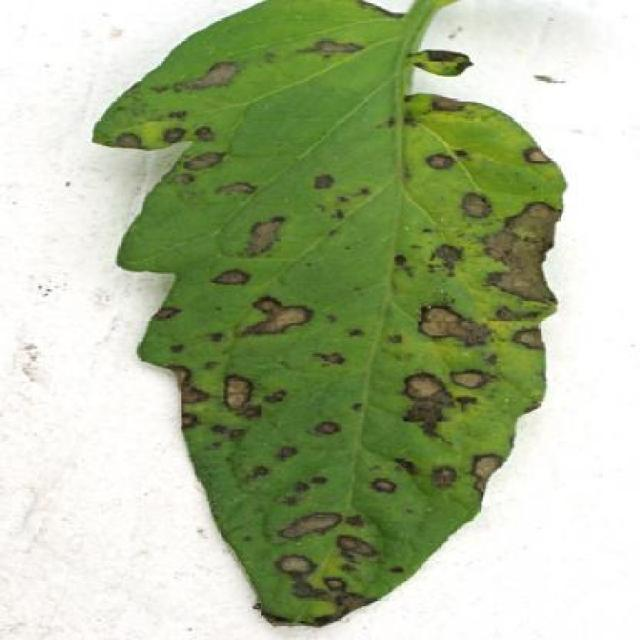Septoria leaf spot: (71, 9, 578, 625)
